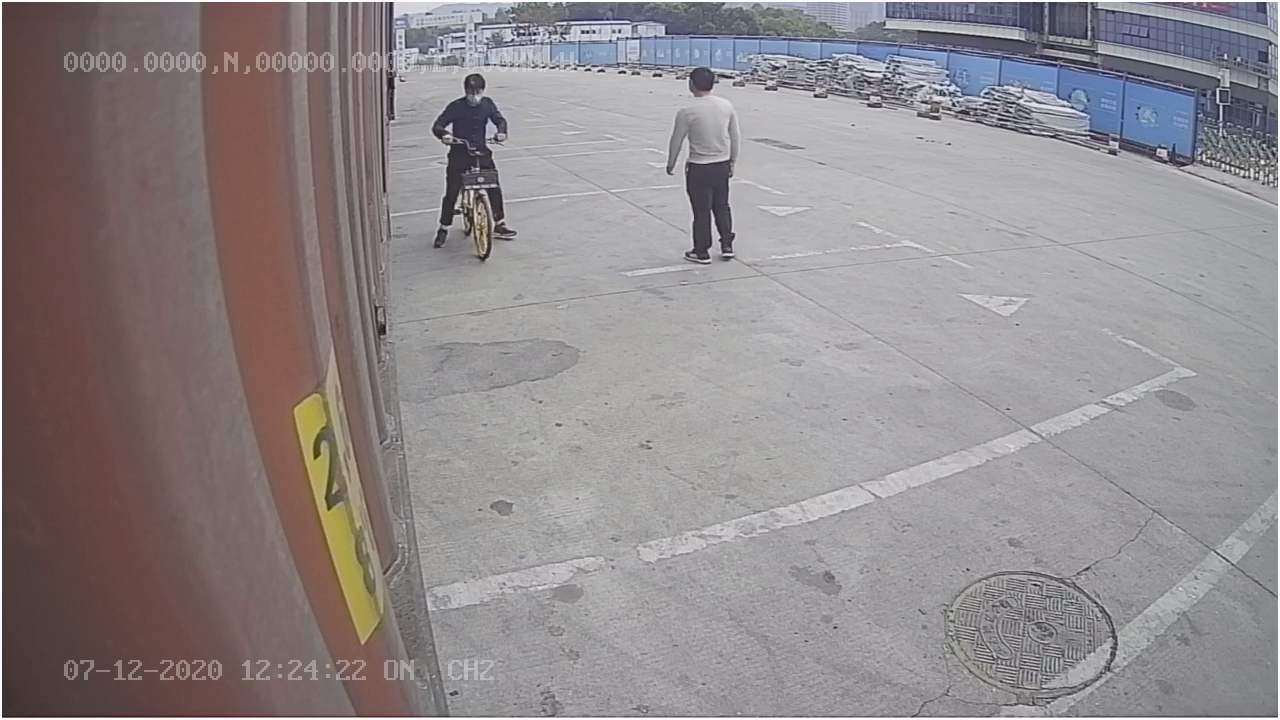person: (662, 64, 746, 265)
